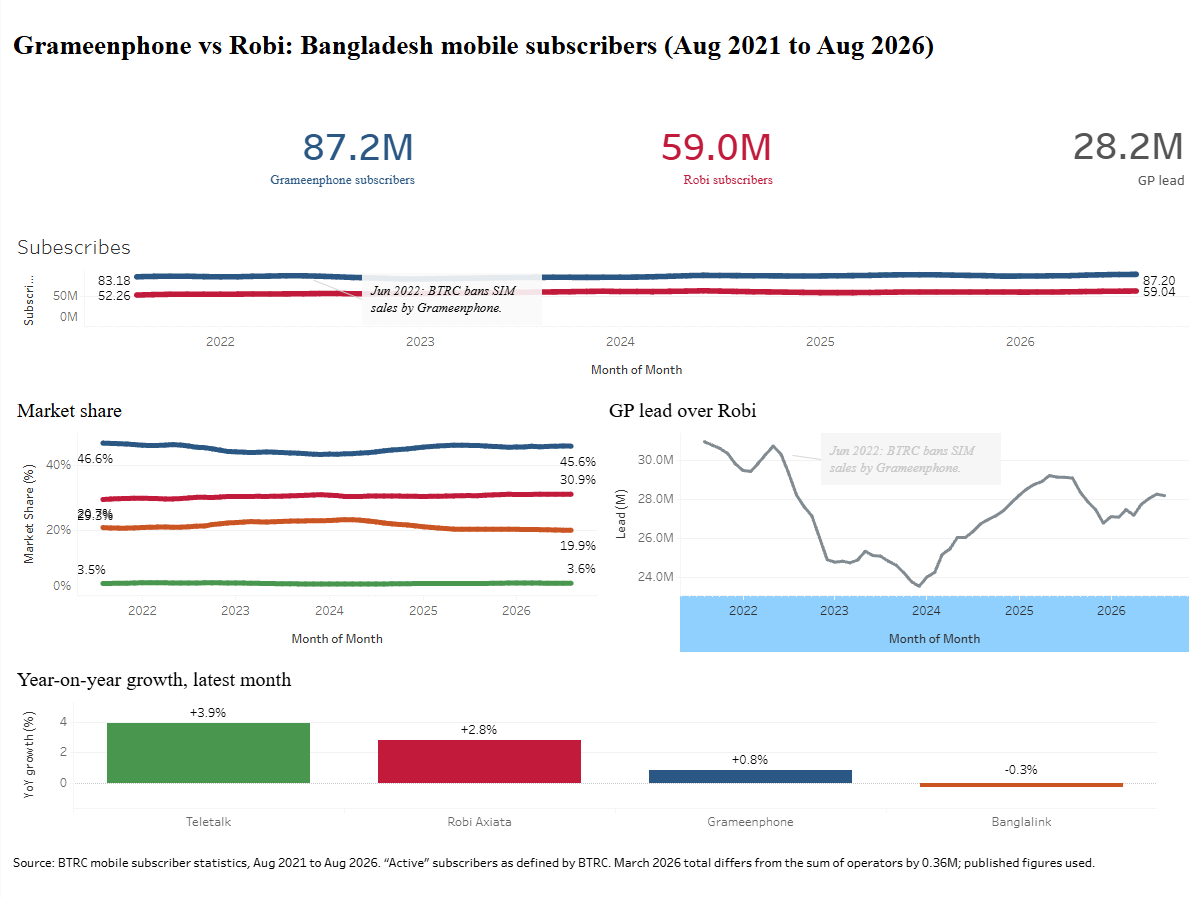

The dashboard page shown, as its layout file describes it:
{"tool":"tableau","page":{"name":"Dashboard 1","canvas":[1200,900],"ordinal":0},"visuals":[{"type":"text","box":[8,8,1184,77]},{"type":"worksheet","title":"Sheet 5","mark":"Text","box":[8,85,415,138.5]},{"type":"worksheet","title":"Sheet 6","mark":"Text","box":[423,85,357,138.5]},{"type":"worksheet","title":"Sheet 7","mark":"Automatic","box":[780,85,412,138.5]},{"type":"worksheet","title":"Sheet 1","mark":"Automatic","rows":["subscribers_m"],"cols":["month"],"box":[8,223.5,1184,164.7]},{"type":"worksheet","title":"Sheet 2","mark":"Automatic","rows":["market_share_pct"],"cols":["month"],"box":[8,388.2,591.9,268.8]},{"type":"worksheet","title":"Sheet 3","mark":"Automatic","rows":["Calculation_0816177646915586"],"cols":["month"],"box":[599.9,388.2,592.1,268.8]},{"type":"worksheet","title":"Sheet 4","mark":"Automatic","rows":["yoy_pct"],"cols":["operator"],"box":[8,657,1152,178]},{"type":"text","box":[1160,657,32,178]},{"type":"text","box":[8,835,1184,57]}]}

Visuals, with their boxes in screenshot pixels (x1, y1, x2, y2), scaled from the page's 1200x900 canvas onto the 1199x898 screenshot:
text: [left=8, top=8, right=1191, bottom=85]
"Sheet 5" worksheet (Text marks): [left=8, top=85, right=423, bottom=223]
"Sheet 6" worksheet (Text marks): [left=423, top=85, right=779, bottom=223]
"Sheet 7" worksheet: [left=779, top=85, right=1191, bottom=223]
"Sheet 1" worksheet: [left=8, top=223, right=1191, bottom=387]
"Sheet 2" worksheet: [left=8, top=387, right=599, bottom=656]
"Sheet 3" worksheet: [left=599, top=387, right=1191, bottom=656]
"Sheet 4" worksheet: [left=8, top=656, right=1159, bottom=833]
text: [left=1159, top=656, right=1191, bottom=833]
text: [left=8, top=833, right=1191, bottom=890]
